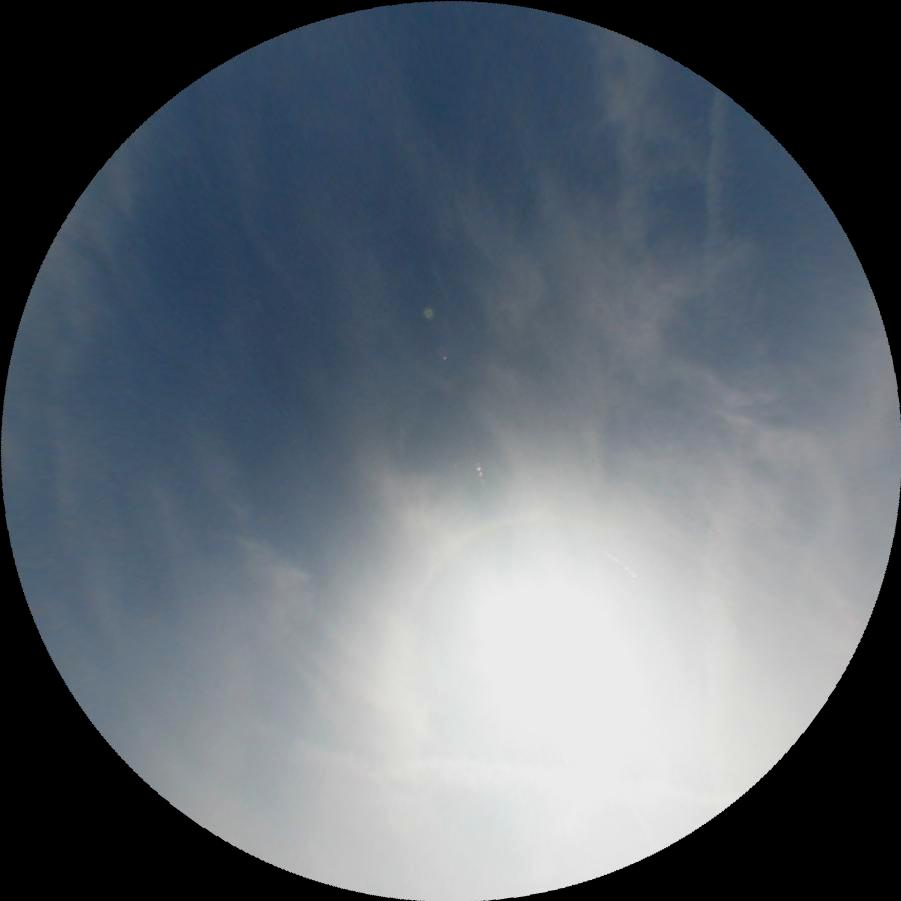contrail veryold: (694, 82, 752, 723)
sun: (447, 538, 717, 816)
